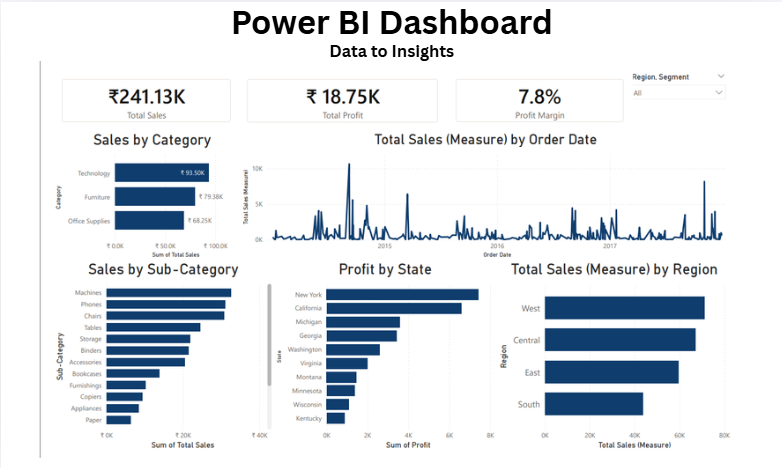

What the dashboard file says about the page in this screenshot:
{"tool":"powerbi","page":{"name":"Page 1","canvas":[1280,720],"ordinal":0},"visuals":[{"type":"clusteredBarChart","title":"Sales by Category","fields":{"Category":["Sheet1.Category"],"Y":["Sum(Sheet1.Sales)"]},"box":[0,115.3,374.6,244.1],"z":0},{"type":"clusteredBarChart","title":"Sales by Sub-Category","fields":{"Category":["Sheet1.Sub-Category"],"Y":["Sum(Sheet1.Sales)"]},"box":[0,359.3,416.9,361],"z":1000},{"type":"clusteredBarChart","title":"Profit by State","fields":{"Category":["Sheet1.State"],"Y":["Sum(Sheet1.Profit)"]},"box":[416.9,359.3,418.6,361],"z":2000},{"type":"slicer","fields":{"Values":["Sheet1.Region","Sheet1.Segment"]},"box":[1078,0,200,115.3],"z":3000},{"type":"cardVisual","fields":{"Data":["Sheet1.Total Sales (Measure)"]},"box":[0,0,352.5,115.3],"z":4000},{"type":"cardVisual","fields":{"Data":["Sheet1.Profit Margin Measure"]},"box":[742.4,0,350.8,115.3],"z":5000},{"type":"cardVisual","fields":{"Data":["Sum(Sheet1.Profit)"]},"box":[349.2,0,393.2,116.9],"z":6000},{"type":"lineChart","fields":{"Category":["Sheet1.Order Date"],"Y":["Sheet1.Total Sales (Measure)"]},"box":[352.5,115.3,925.4,244.1],"z":7000},{"type":"clusteredBarChart","fields":{"Category":["Sheet1.Region"],"Y":["Sheet1.Total Sales (Measure)"]},"box":[835.6,359.3,444.1,361],"z":8000}]}

Visuals, with their boxes on the page's 1280x720 design canvas (x1, y1, x2, y2). These are canvas units, not pixel positions in the 782x468 screenshot, which may show the page scaled, cropped or inside an application window:
"Sales by Category" clusteredBarChart: (x1=0, y1=115, x2=375, y2=359)
"Sales by Sub-Category" clusteredBarChart: (x1=0, y1=359, x2=417, y2=720)
"Profit by State" clusteredBarChart: (x1=417, y1=359, x2=836, y2=720)
slicer - Sheet1.Region x Sheet1.Segment: (x1=1078, y1=0, x2=1278, y2=115)
cardVisual - Sheet1.Total Sales (Measure): (x1=0, y1=0, x2=352, y2=115)
cardVisual - Sheet1.Profit Margin Measure: (x1=742, y1=0, x2=1093, y2=115)
cardVisual - Sum(Sheet1.Profit): (x1=349, y1=0, x2=742, y2=117)
lineChart - Sheet1.Order Date x Sheet1.Total Sales (Measure): (x1=352, y1=115, x2=1278, y2=359)
clusteredBarChart - Sheet1.Region x Sheet1.Total Sales (Measure): (x1=836, y1=359, x2=1280, y2=720)
